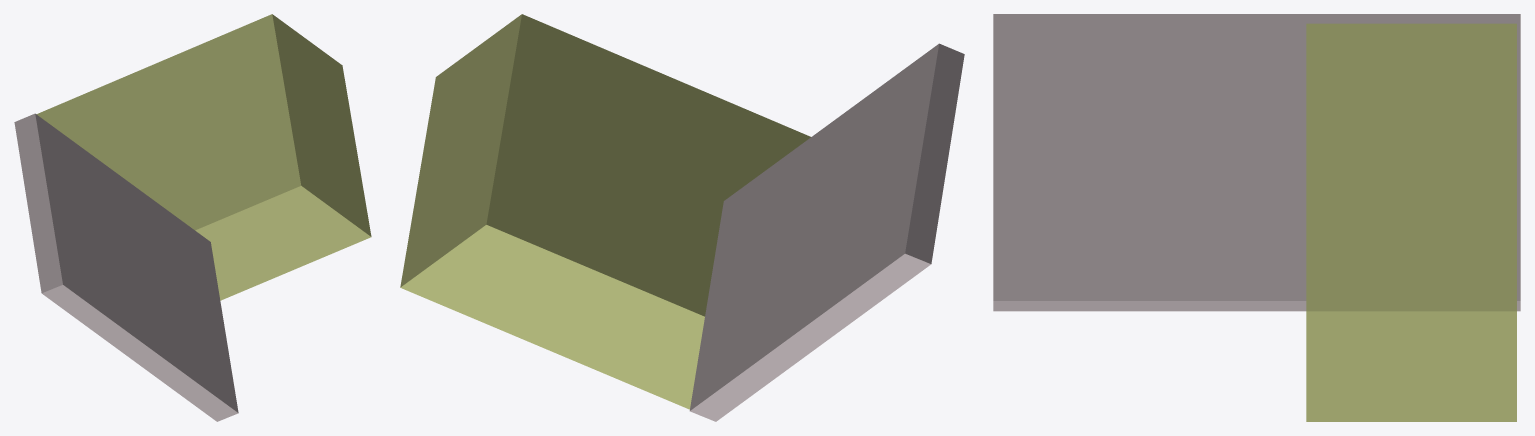
3 renders of one model, left to right at view 1: azimuth 30°, elevation 25°; view 2: azimuth 150°, elevation 25°; view 3: azimuth 270°, elevation 25°, orthographic. The views are drawn at different scales.
Parts seen in each view (by area): view 1: 0_2_1_3_3_0_3_2_2_0_1; view 2: 0_2_1_3_3_0_3_2_2_0_1; view 3: 0_2_1_3_3_0_3_2_2_0_1.
Part boxes in pixels (x1,y1,x2,y2): 0_2_1_3_3_0_3_2_2_0_1: (14,14,371,421); 0_2_1_3_3_0_3_2_2_0_1: (400,14,964,421); 0_2_1_3_3_0_3_2_2_0_1: (993,14,1520,421).
Size of the model in its own units: 14.09 by 10.57 by 15.
